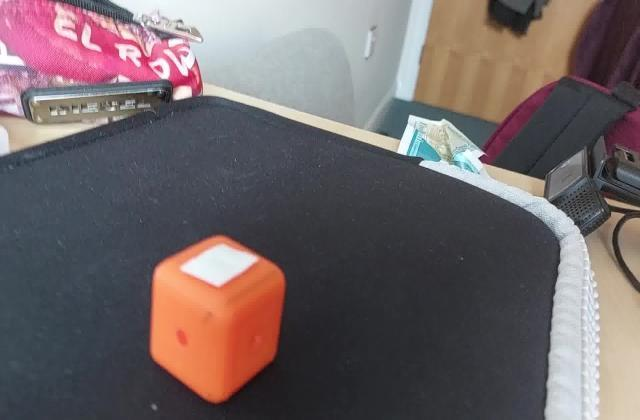cube: (146, 227, 288, 404)
white: (180, 250, 248, 293)
